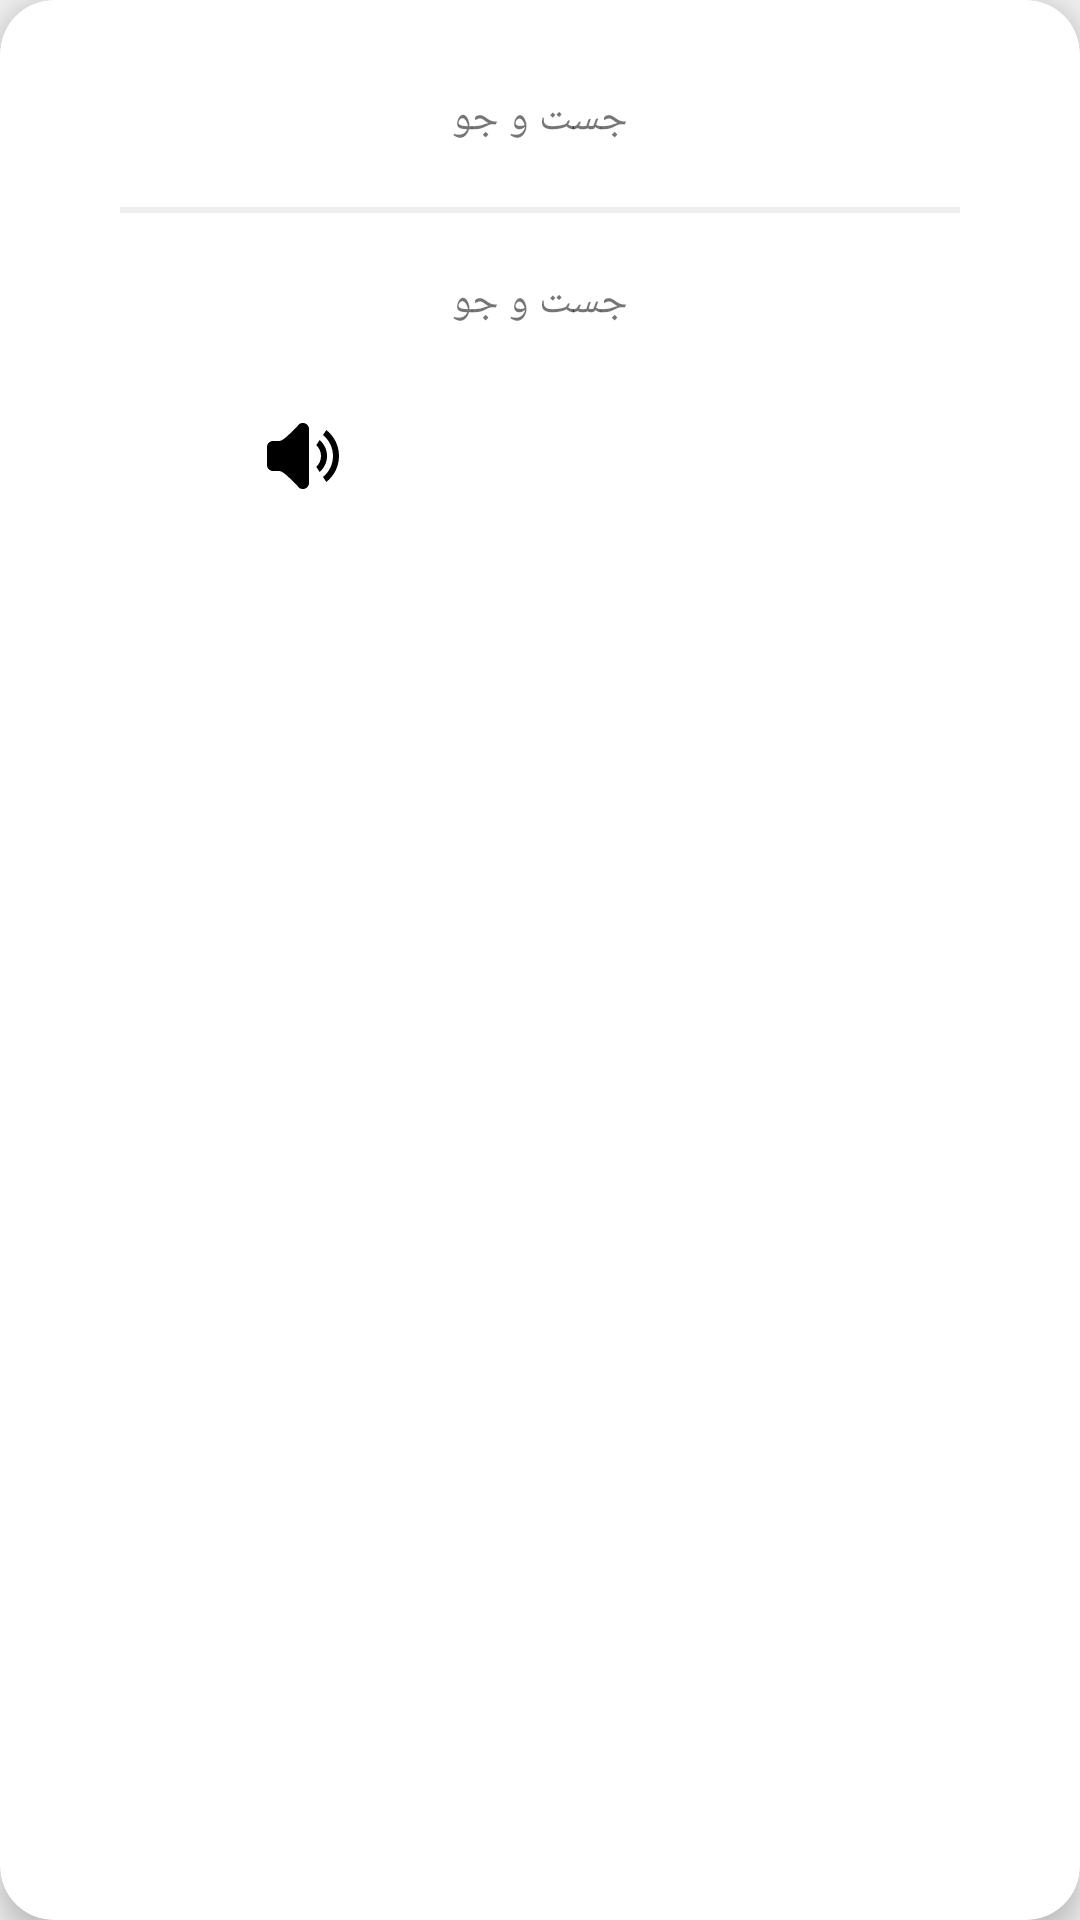

Point at icon controls on the screen. Image size 1080px×1920px, points as (x=x, y=y).
speaker: (x=303, y=456)
